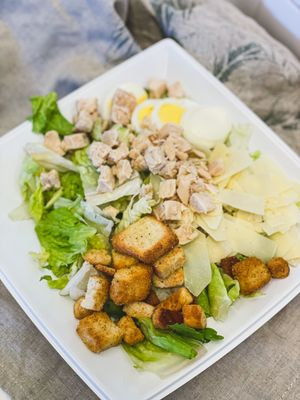curry: (18, 148, 114, 290)
sushi: (2, 44, 300, 399)
